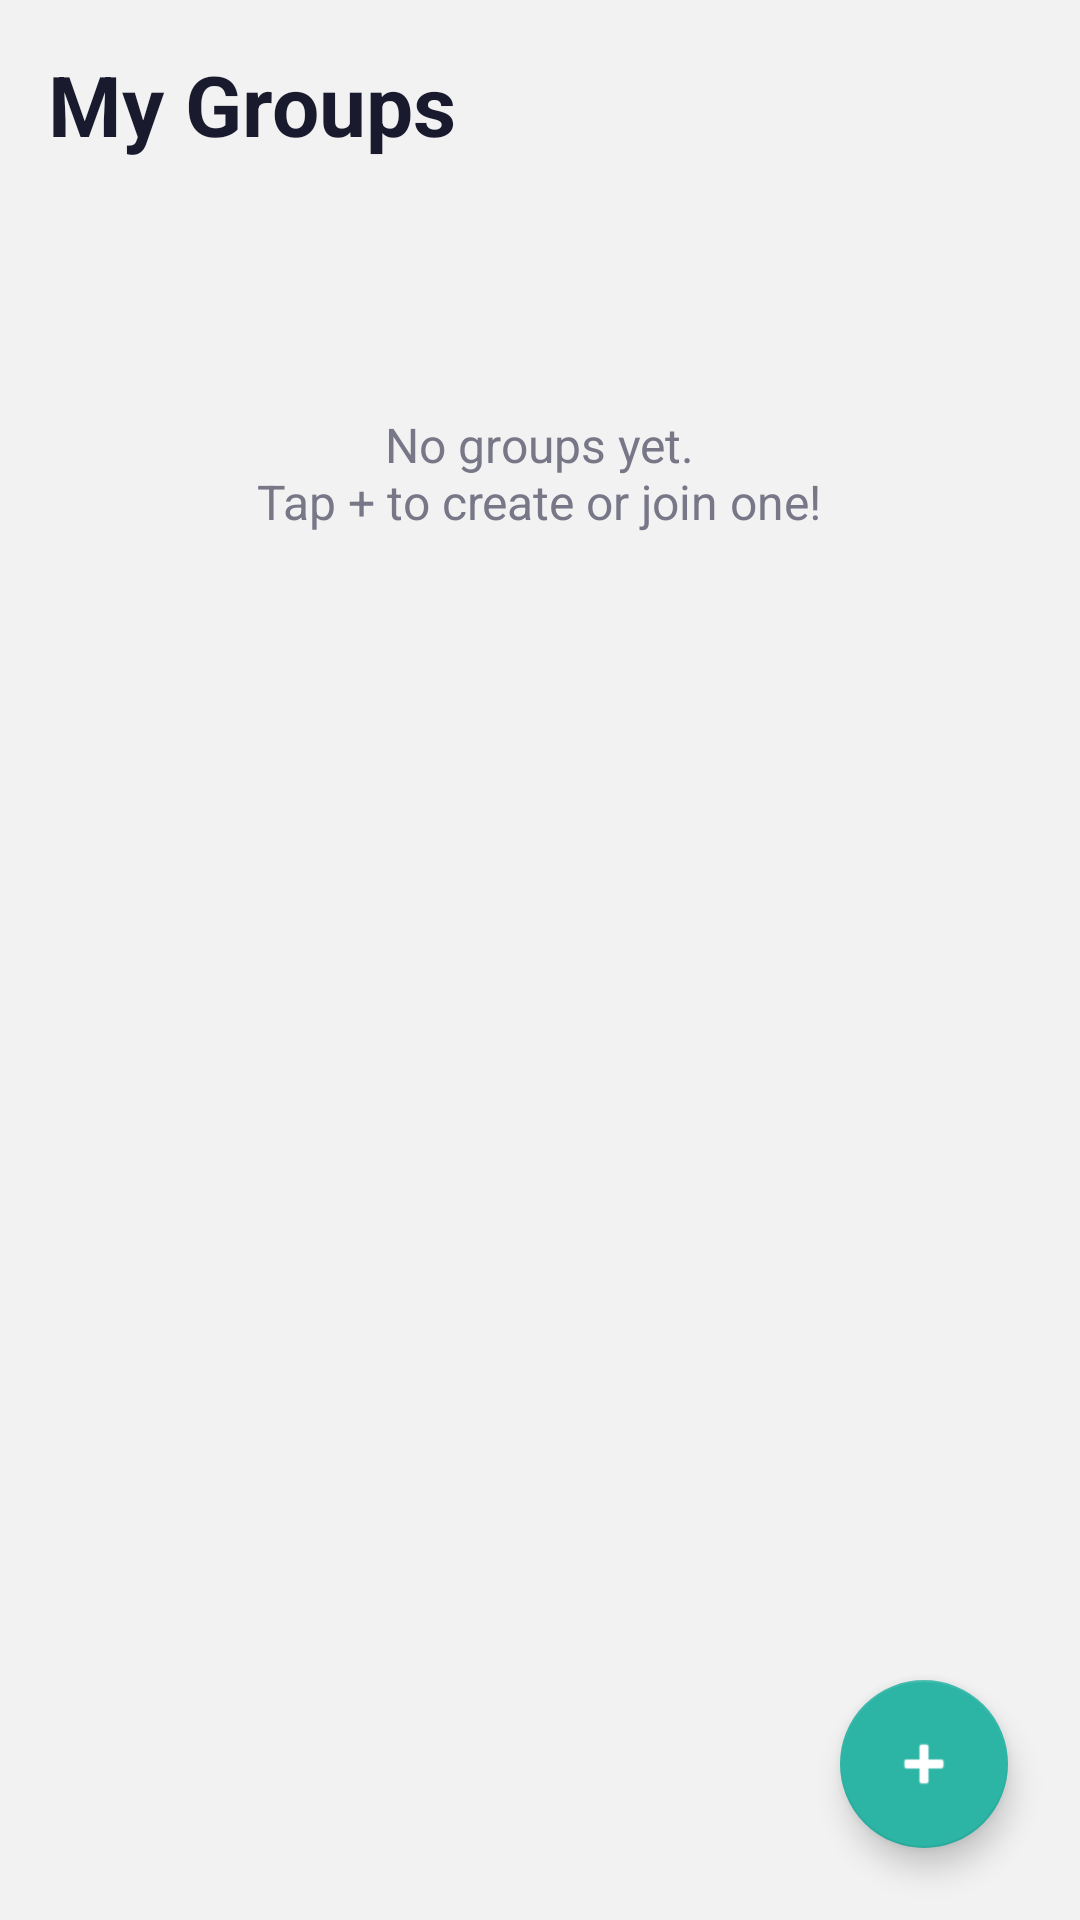

Where to tap for icons on this 1080×1920 app screen, as (x,y):
Add Group: (924,1764)
